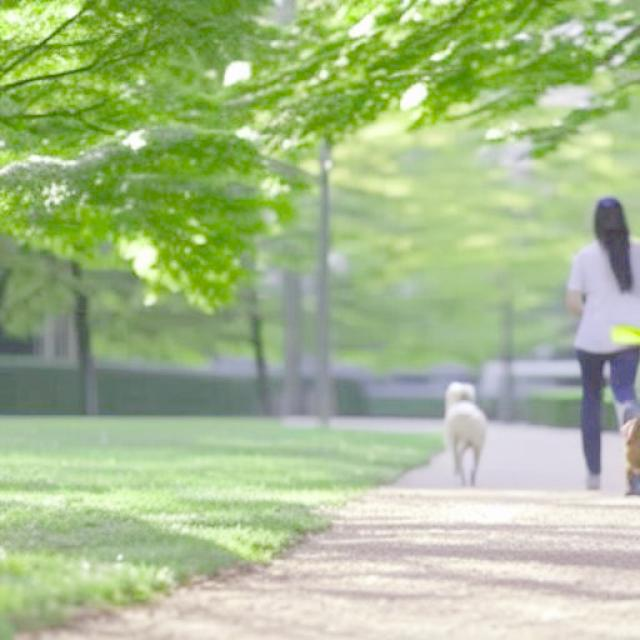Unleashed_Dog: (444, 322, 632, 489)
